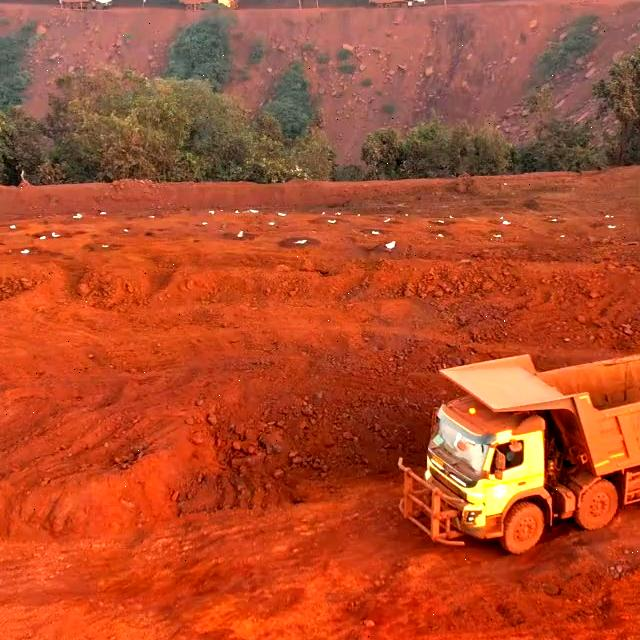Dumper truck: (426, 361, 627, 517), (374, 0, 426, 7), (182, 0, 234, 7), (63, 0, 111, 7)
